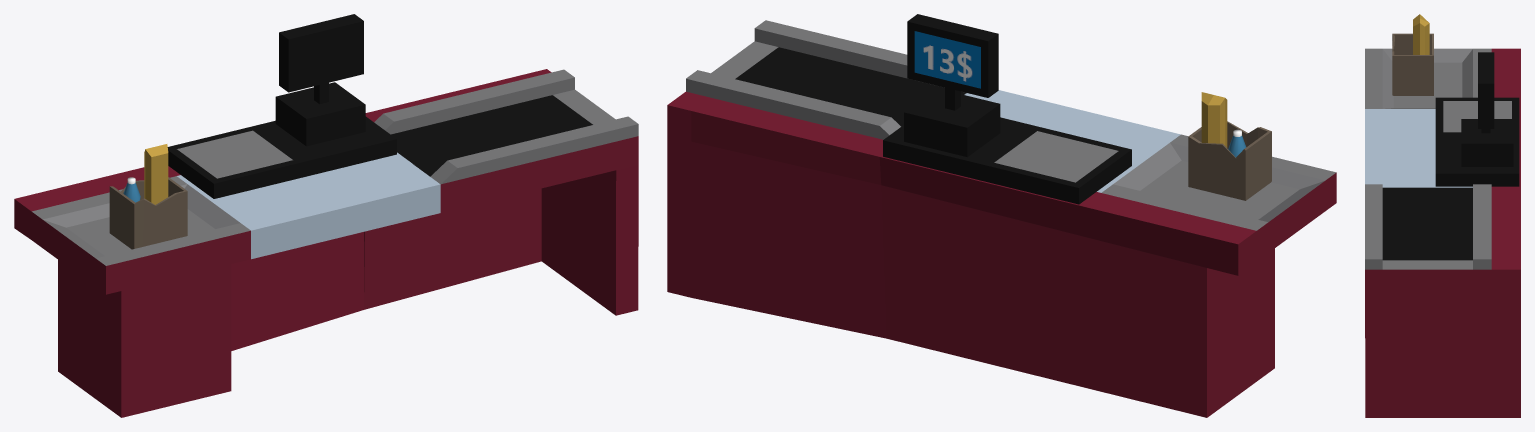
Rendered from The end.fbx.
The picture shows the model from 3 angles, left to right: view 1: azimuth 30°, elevation 25°; view 2: azimuth 150°, elevation 25°; view 3: azimuth 270°, elevation 25°; orthographic projection. The views are drawn at different scales.
Parts seen in each view (by area): view 1: Cash, Cash tape, Package; view 2: Cash, Cash tape, Package; view 3: Cash tape, Cash, Package.
Part boxes in pixels (x1,y1,x2,y2): Cash: (14, 14, 440, 417); Cash tape: (364, 69, 638, 315); Package: (109, 144, 187, 249); Cash: (879, 14, 1336, 417); Cash tape: (667, 20, 966, 338); Package: (1188, 92, 1271, 200); Cash tape: (1365, 184, 1520, 417); Cash: (1365, 48, 1520, 187); Package: (1392, 14, 1433, 95).
Size of the model in its own units: 761 by 401 by 227.
